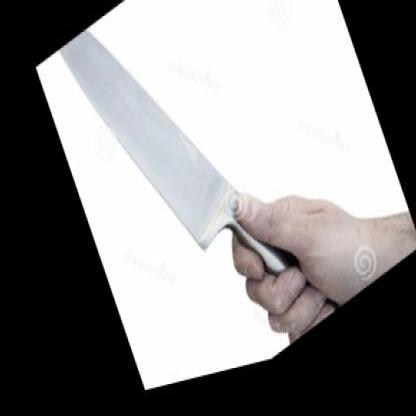knife: (41, 0, 330, 404)
